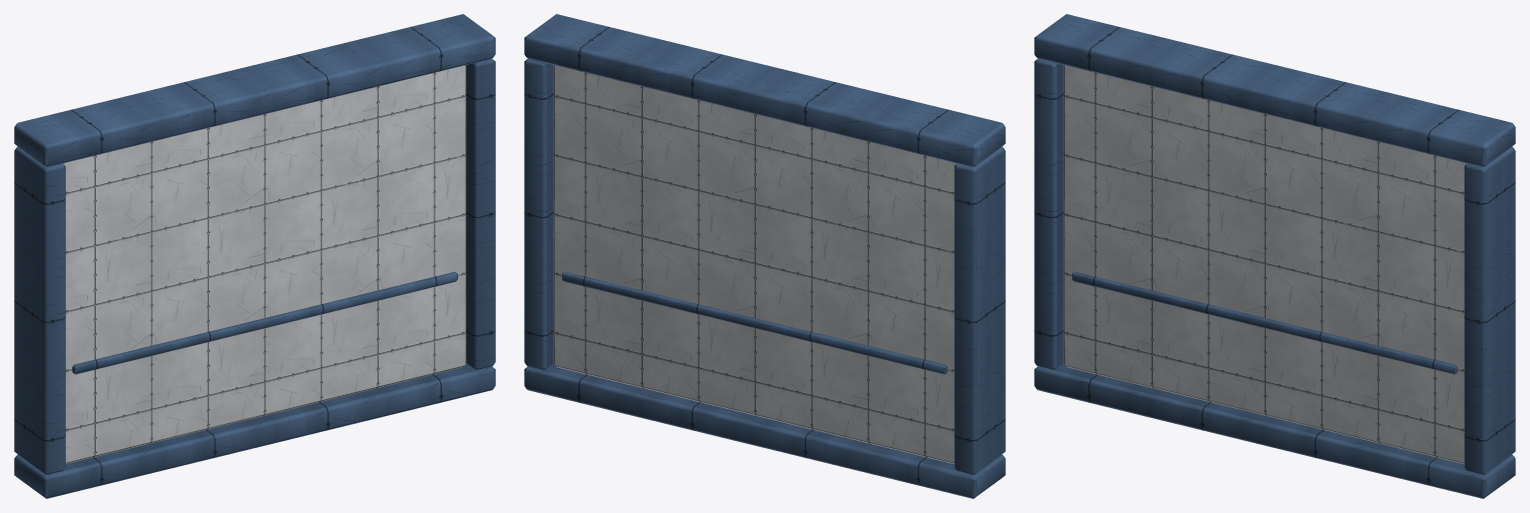
File: wall_panel.glb
3 views of the same model, side by side, from view 1: azimuth 30°, elevation 25°; view 2: azimuth 150°, elevation 25°; view 3: azimuth 330°, elevation 25° (orthographic).
Parts seen in each view (by area): view 1: wall_panel_hull_offwhite, wall_panel_navy_frame; view 2: wall_panel_hull_offwhite, wall_panel_navy_frame; view 3: wall_panel_hull_offwhite, wall_panel_navy_frame.
Boxes of the visible parts, <box> form: wall_panel_hull_offwhite: <box>62,65,466,463</box>; wall_panel_navy_frame: <box>14,14,495,498</box>; wall_panel_hull_offwhite: <box>553,65,957,463</box>; wall_panel_navy_frame: <box>524,14,1005,498</box>; wall_panel_hull_offwhite: <box>1063,65,1467,463</box>; wall_panel_navy_frame: <box>1034,14,1515,498</box>.
Bounding box in the file's own units: 4 × 3 × 0.5.
2 materials, 2 textured.
